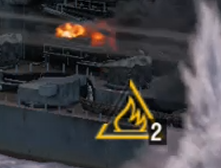2fire: (93, 102, 166, 145)
